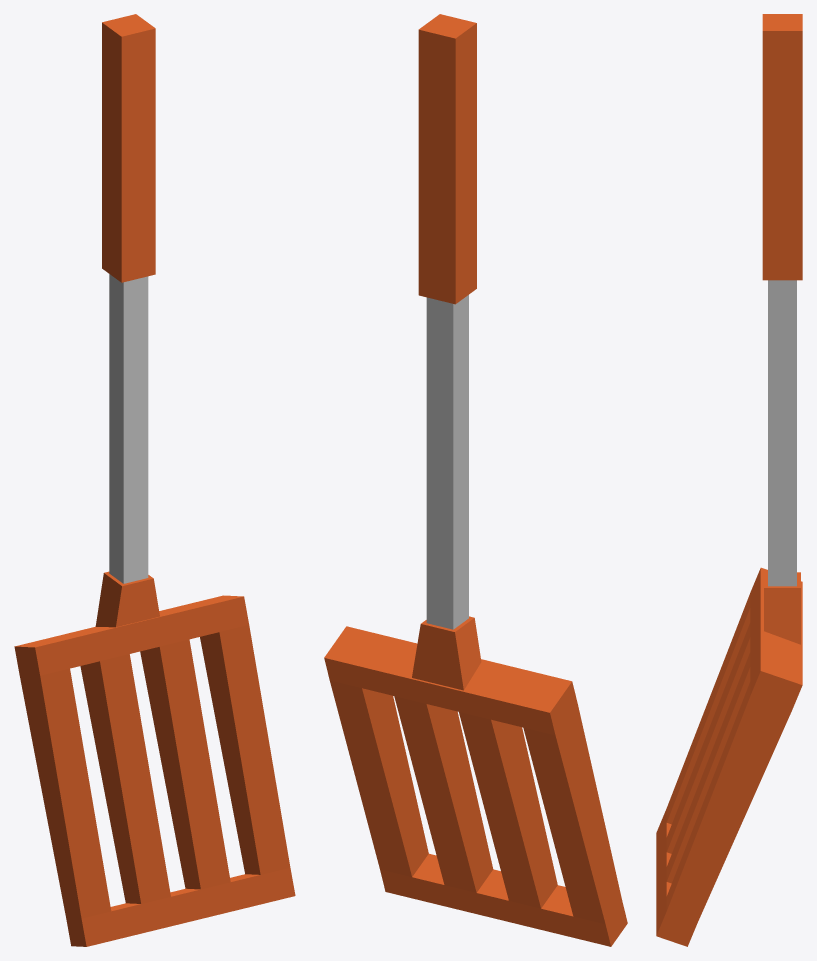
The model's file is fritterTender1_PLY.fbx.
3 renders of one model, left to right at view 1: azimuth 30°, elevation 25°; view 2: azimuth 150°, elevation 25°; view 3: azimuth 270°, elevation 25°, orthographic. The views are drawn at different scales.
Visible parts, largest first — view 1: fritterTender1_PLY; view 2: fritterTender1_PLY; view 3: fritterTender1_PLY.
Boxes of the visible parts, x1,y1,x2,y2 form: fritterTender1_PLY: [14, 14, 295, 946]; fritterTender1_PLY: [324, 14, 627, 946]; fritterTender1_PLY: [656, 14, 802, 946].
Size of the model in its own units: 0.3784 by 1.49 by 0.2262.
